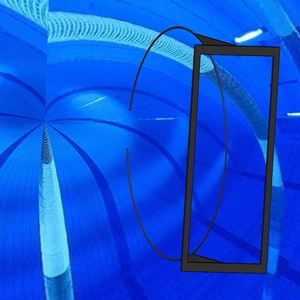circle: (127, 25, 282, 276)
